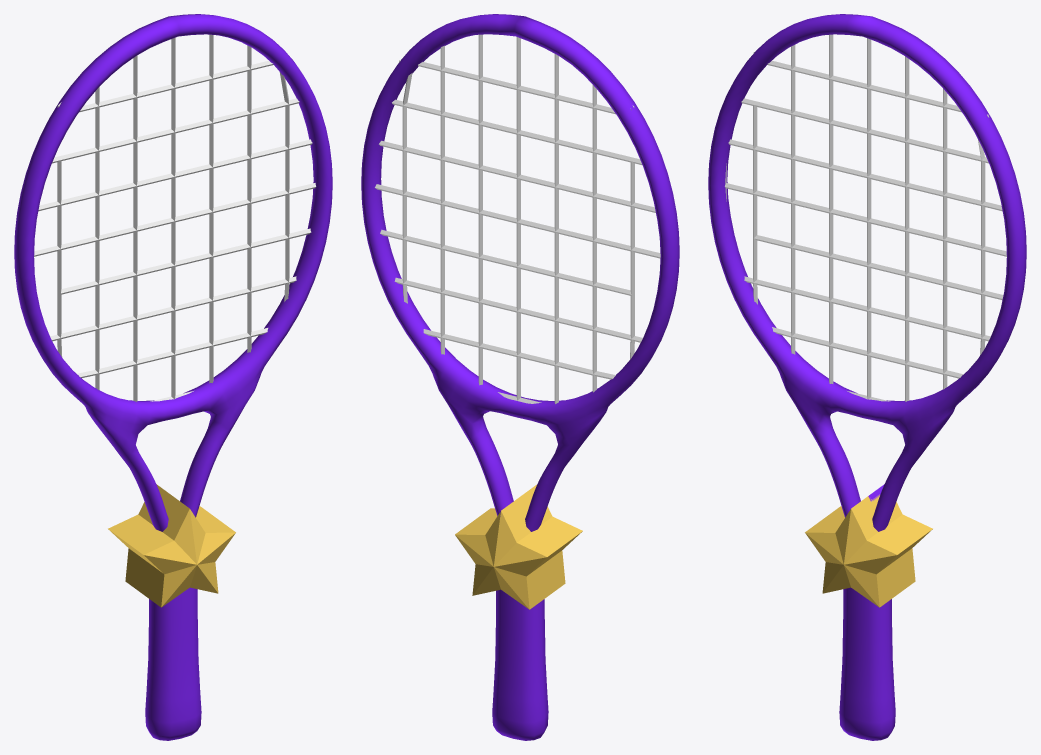
Rendered from tennisRacket_change.fbx.
3 views of the same model, side by side, from view 1: azimuth 30°, elevation 25°; view 2: azimuth 150°, elevation 25°; view 3: azimuth 330°, elevation 25° (orthographic).
Visible parts, largest first — view 1: Circle; view 2: Circle; view 3: Circle.
Boxes of the visible parts, box(x1,y1,x2,y2) form: Circle: box(14, 14, 332, 740); Circle: box(361, 14, 679, 740); Circle: box(708, 14, 1026, 740).
Bounding box in the file's own units: 177 × 389 × 49.45.
Materials: 2 (1 with a texture image).
